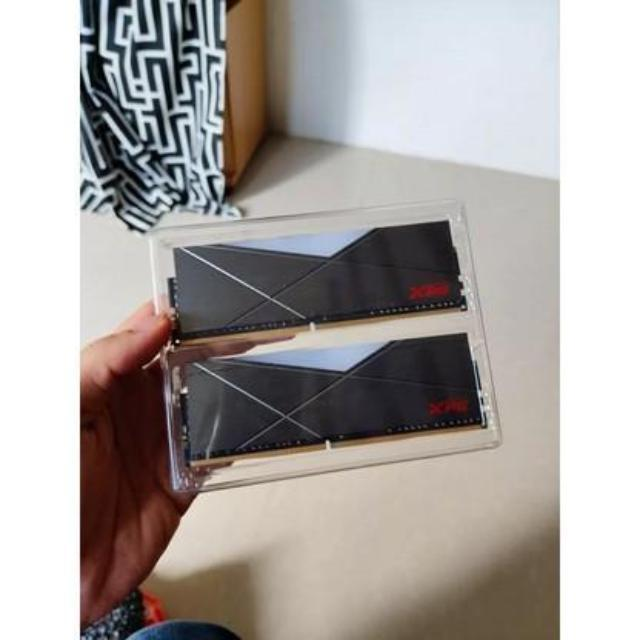RAM: (163, 210, 472, 348), (170, 344, 492, 472)
